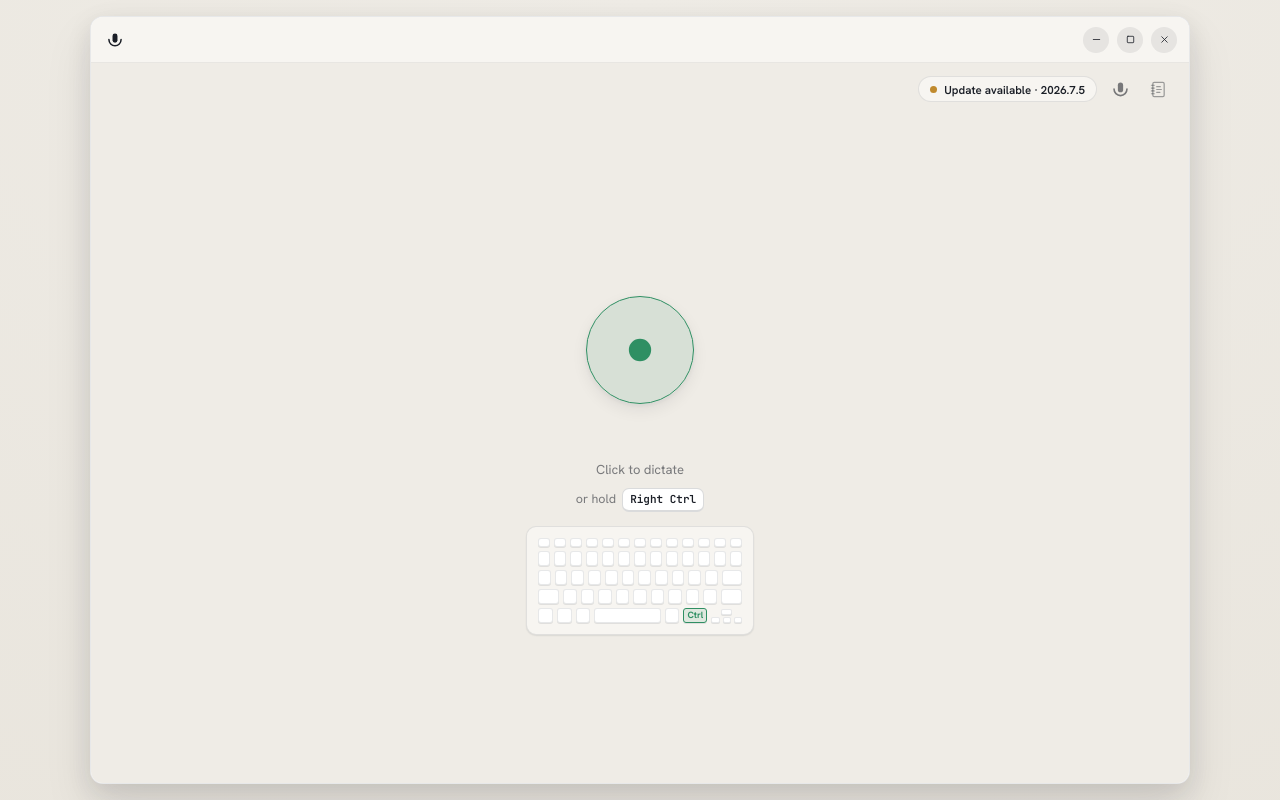
Quiet Console app (mock mode) › turns an expired command update poll into a retryable failure
What coordinates should you click on to do the following:
click the button "Update available · 2026.7.5"
I would click on:
 (1008, 89)
Its box is x1=918 y1=76 x2=1097 y2=102.
Wait 300000 ms
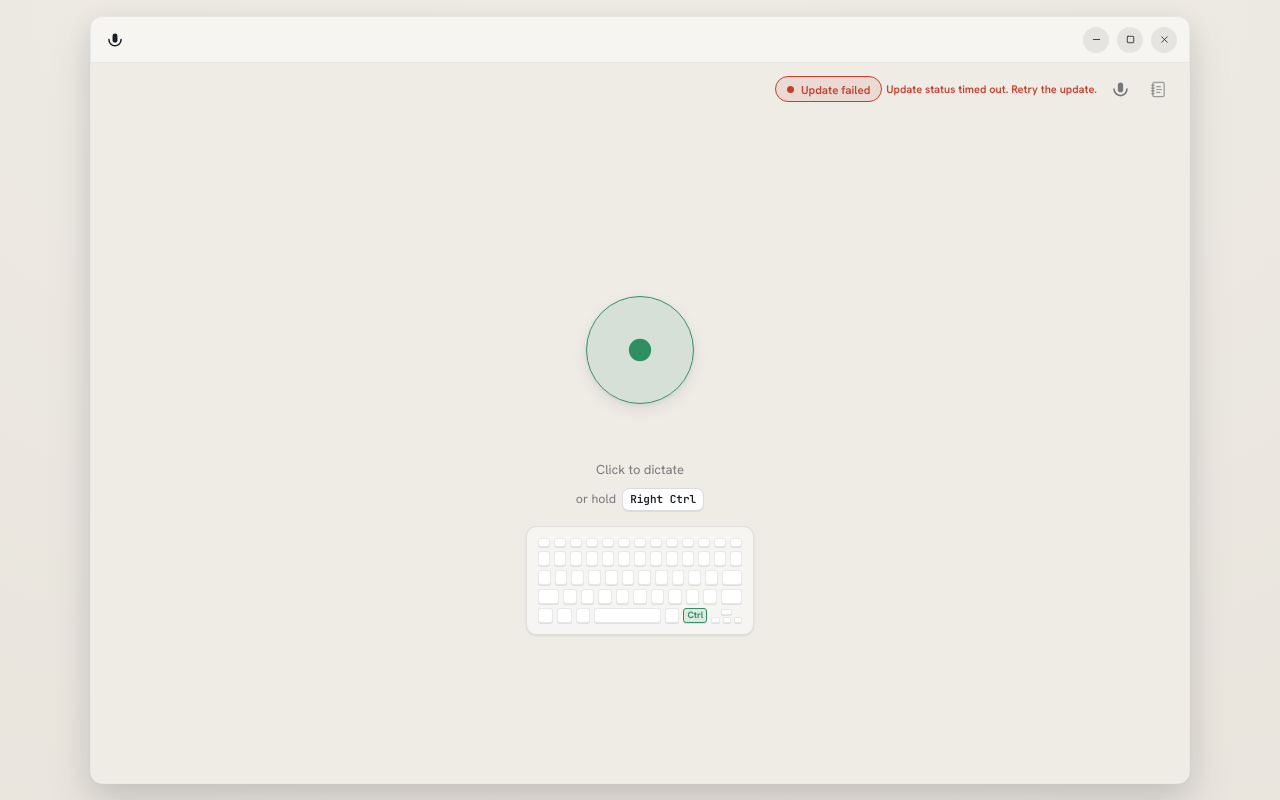
Check: the button named "Updating" is shown, box x1=775 y1=76 x2=882 y2=102
Check: the text "Update status timed out. Retry the update." is shown, box x1=886 y1=81 x2=1097 y2=97
